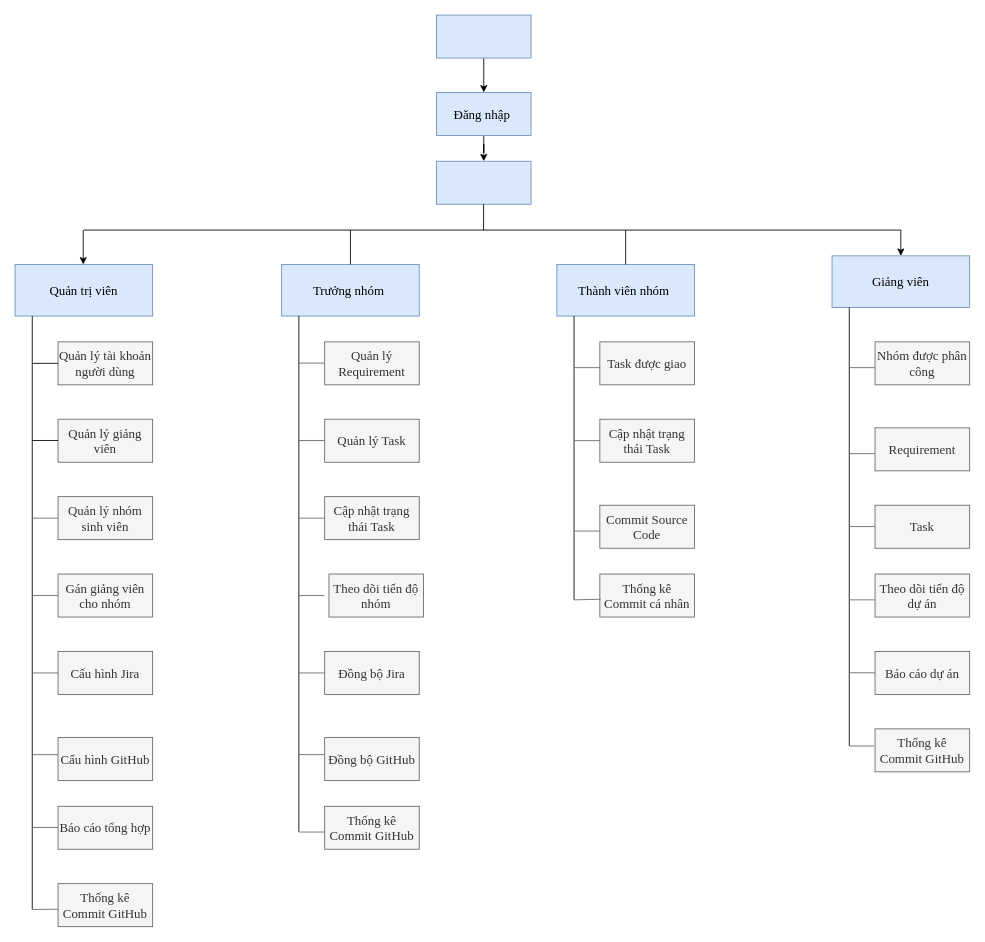
The diagram is 985 pixels wide and 942 high, and some of its shapes have lost their labels. The box of each missing label's shape, as (x1, y1, x2, y2) in pixels:
Bảng điều khiển: (436, 160, 531, 204)
Website: (436, 14, 531, 58)
